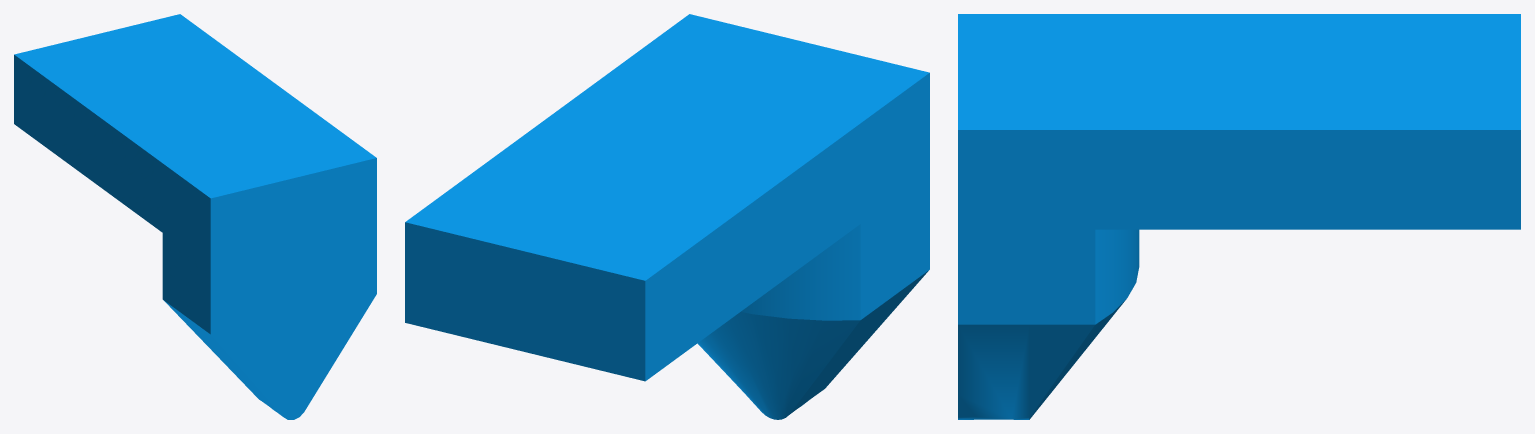
Rendered from 181014 Grip1.obj.
The picture shows the model from 3 angles, left to right: view 1: azimuth 30°, elevation 25°; view 2: azimuth 150°, elevation 25°; view 3: azimuth 270°, elevation 25°; orthographic projection. The views are drawn at different scales.
Size of the model in its own units: 0.025 by 0.0348 by 0.0513.
